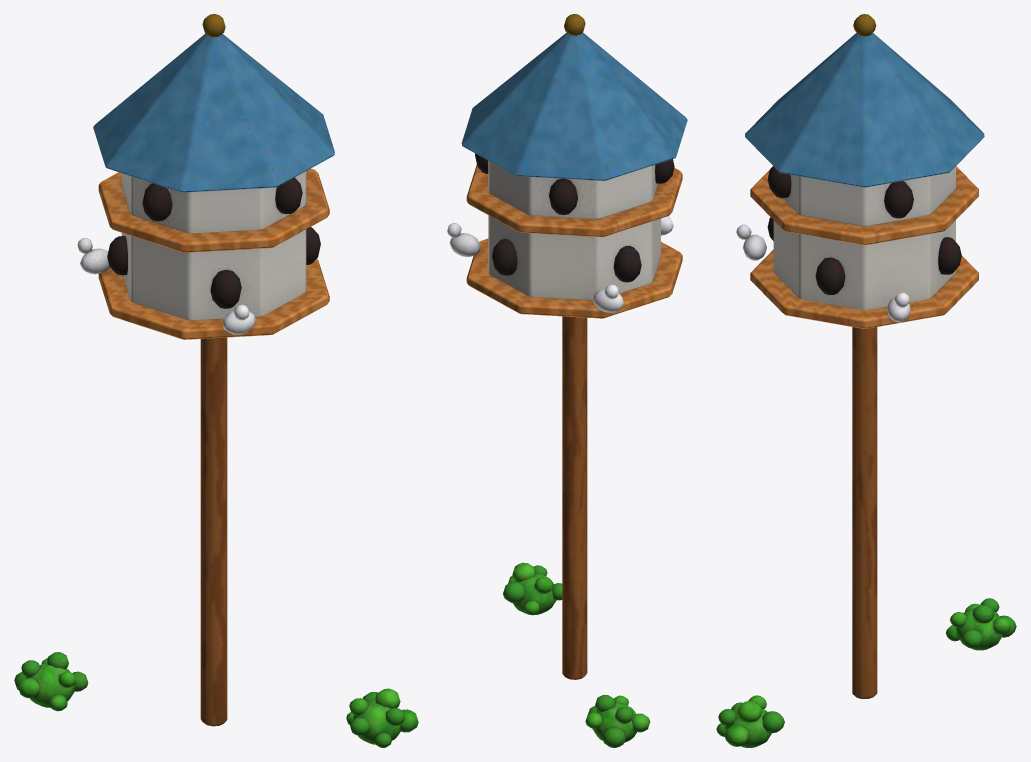
File: dovecote.glb
The picture shows the model from 3 angles, left to right: view 1: azimuth 30°, elevation 25°; view 2: azimuth 150°, elevation 25°; view 3: azimuth 270°, elevation 25°; orthographic projection. The views are drawn at different scales.
Visible parts, largest first — view 1: dovecote; view 2: dovecote; view 3: dovecote.
Boxes of the visible parts, bbox=[...] form: dovecote: bbox=[14, 14, 418, 747]; dovecote: bbox=[447, 14, 687, 747]; dovecote: bbox=[716, 14, 1016, 747].
Size of the model in its own units: 0.7915 by 1.95 by 0.7803.
Materials: 1 (1 with a texture image).
